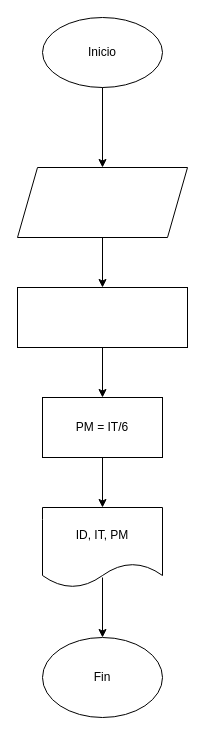
The diagram is 205 pixels wide and 735 high, and some of its shapes have lost their labels. The shapes that lost their labels are listed below. From the top down, each one's box as (x1, y1, x2, y2) in pixels, then its label:
(16, 166, 188, 238): ID, S1, S2, S3, S4, S5, S6
(16, 286, 188, 348): IT = S1 + S2 + S3 + S4 + S5 + S6
